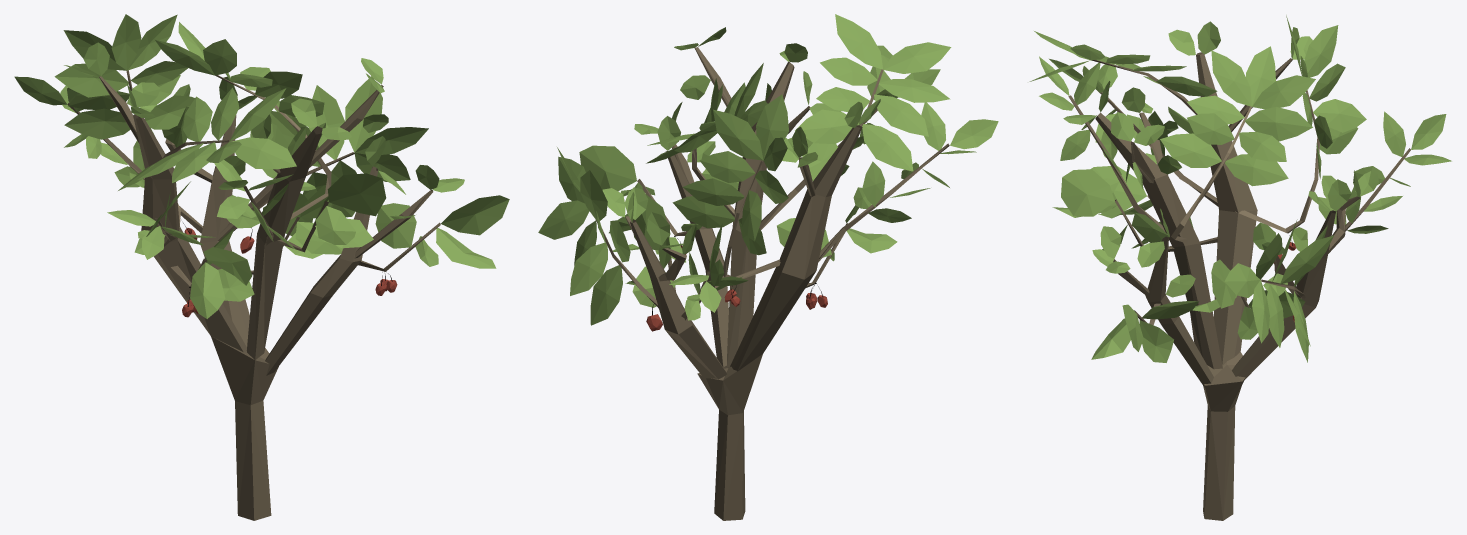
The model's file is Cherry_4_3.fbx.
The picture shows the model from 3 angles, left to right: view 1: azimuth 30°, elevation 25°; view 2: azimuth 150°, elevation 25°; view 3: azimuth 270°, elevation 25°; orthographic projection. The views are drawn at different scales.
Visible parts, largest first — view 1: Cherry_4_3; view 2: Cherry_4_3; view 3: Cherry_4_3.
Part boxes in pixels (box(x1,y1,x2,y2)): Cherry_4_3: box(14, 14, 509, 520); Cherry_4_3: box(538, 14, 998, 520); Cherry_4_3: box(1029, 15, 1451, 520).
Size of the model in its own units: 323 by 371 by 311.
